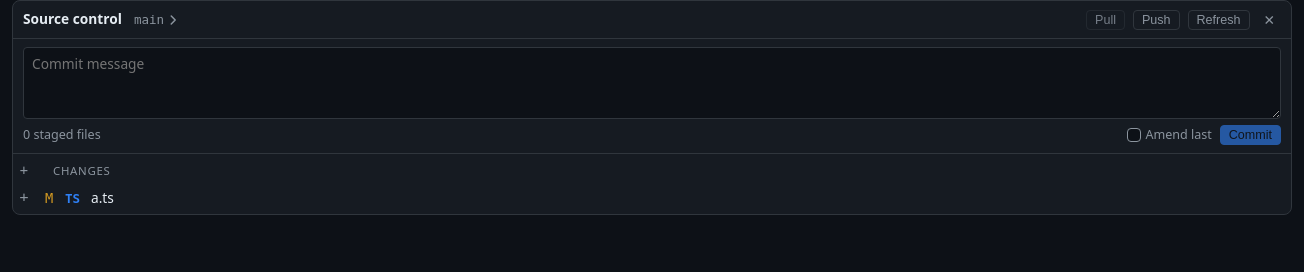
it: opening a file to its diff › draws the diff it was given
The width and height of the screenshot is (1304, 272).
What coordinates should you click on to do the following:
click the button "M TS a.ts"
I would click on:
 (49, 198)
Its box is [35,185,1291,210].
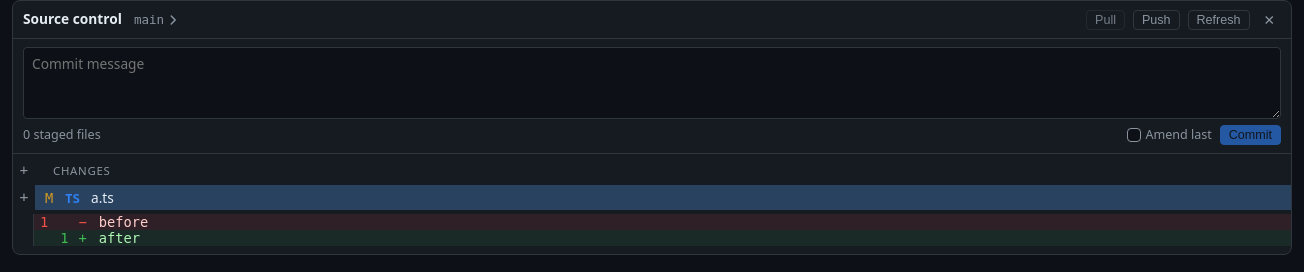
Expected: the element with class "tool-diff" is shown, [33,214,1291,246]
